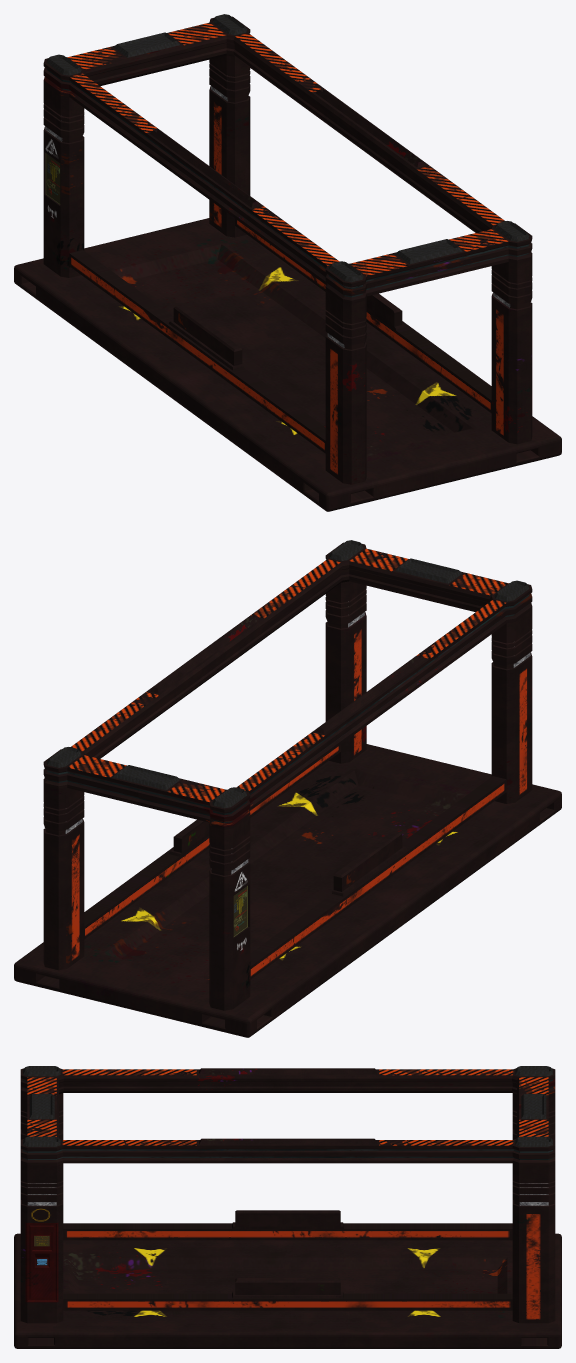
File: MarbleTank.fbx
3 renders of one model, top to bottom at view 1: azimuth 30°, elevation 25°; view 2: azimuth 150°, elevation 25°; view 3: azimuth 270°, elevation 25°, orthographic. The views are drawn at different scales.
Parts seen in each view (by area): view 1: Tank, TankTop; view 2: Tank, TankTop; view 3: Tank, TankTop.
Part boxes in pixels (bbox=[...]): Tank: bbox=[14, 55, 561, 511]; TankTop: bbox=[43, 14, 532, 303]; Tank: bbox=[14, 581, 561, 1037]; TankTop: bbox=[43, 540, 532, 829]; Tank: bbox=[14, 1093, 561, 1348]; TankTop: bbox=[20, 1066, 555, 1165].
Bounding box in the file's own units: 244 × 221 × 561.
Materials: 18 (18 with a texture image).
